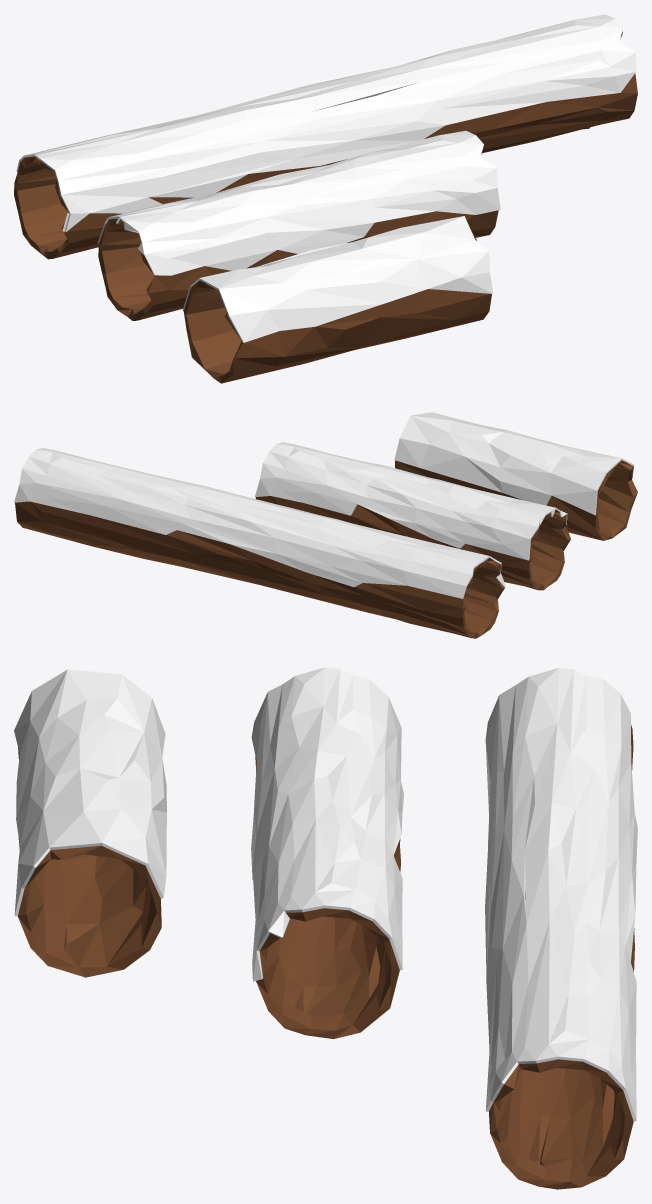
Rendered from Dead Trees.fbx.
3 views of the same model, one above another, from view 1: azimuth 30°, elevation 25°; view 2: azimuth 150°, elevation 25°; view 3: azimuth 270°, elevation 25° (orthographic). The views are drawn at different scales.
Parts seen in each view (by area): view 1: Dead_Tree_1, Dead_Tree_2, Dead_Tree_3; view 2: Dead_Tree_1, Dead_Tree_2, Dead_Tree_3; view 3: Dead_Tree_1, Dead_Tree_2, Dead_Tree_3.
Boxes of the visible parts, box(x1,y1,x2,y2) form: Dead_Tree_1: box(14, 14, 637, 259); Dead_Tree_2: box(97, 130, 500, 320); Dead_Tree_3: box(183, 216, 493, 383); Dead_Tree_1: box(14, 447, 505, 638); Dead_Tree_2: box(255, 442, 570, 590); Dead_Tree_3: box(394, 412, 637, 540); Dead_Tree_1: box(485, 668, 637, 1189); Dead_Tree_2: box(251, 667, 403, 1038); Dead_Tree_3: box(14, 669, 166, 977).
Size of the model in its own units: 395 by 64.87 by 266.
